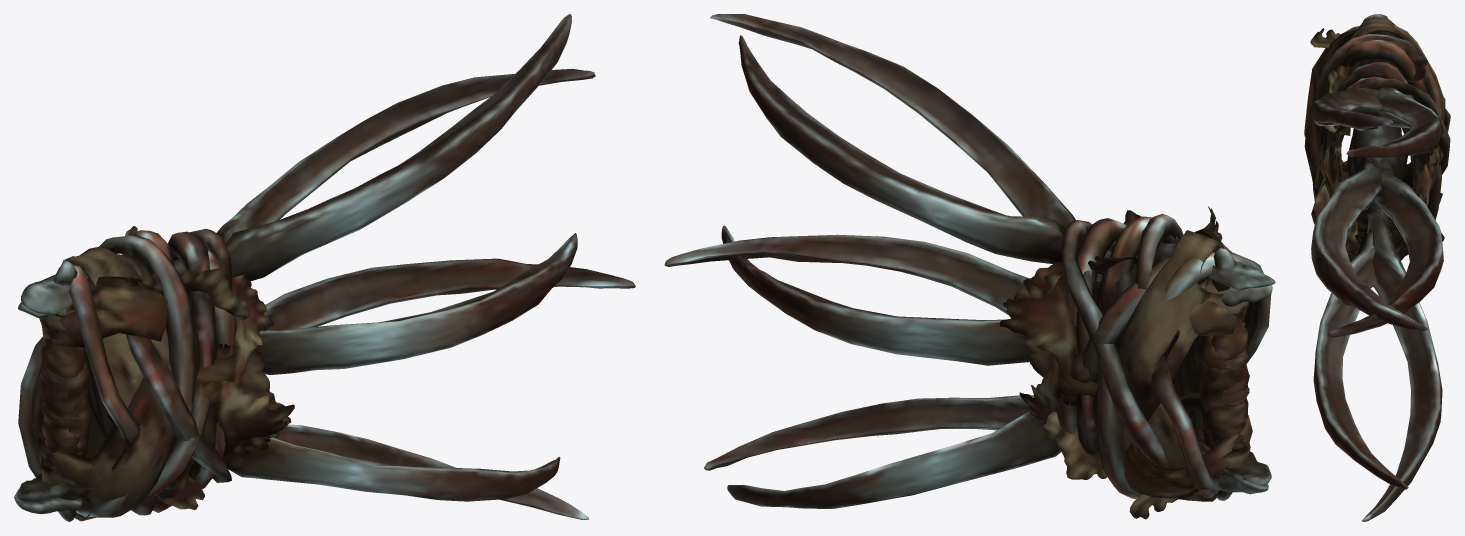
Rendered from weapon-swamp-nail.glb.
The picture shows the model from 3 angles, left to right: view 1: azimuth 30°, elevation 25°; view 2: azimuth 150°, elevation 25°; view 3: azimuth 270°, elevation 25°; orthographic projection. The views are drawn at different scales.
Parts seen in each view (by area): view 1: fistO_MDL_q (×2); view 2: fistO_MDL_q (×2); view 3: fistO_MDL_q (×2).
Part boxes in pixels (x1=…): fistO_MDL_q (×2): x1=14, y1=14, x2=635, y2=521; fistO_MDL_q (×2): x1=664, y1=14, x2=1275, y2=519; fistO_MDL_q (×2): x1=1304, y1=14, x2=1450, y2=521.
Bounding box in the file's own units: 0.6727 × 0.542 × 0.1792.
2 materials, 2 textured.
